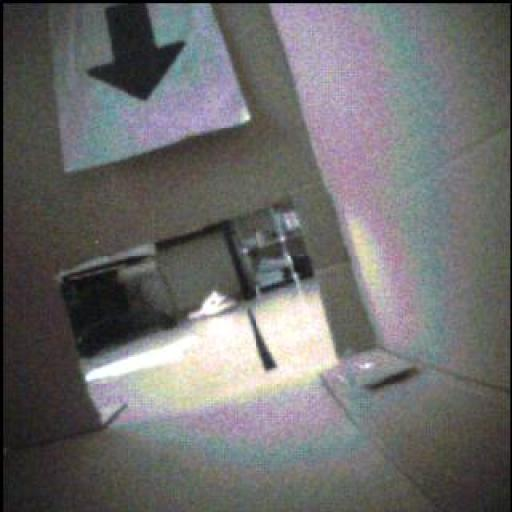arrow: (89, 4, 185, 102)
